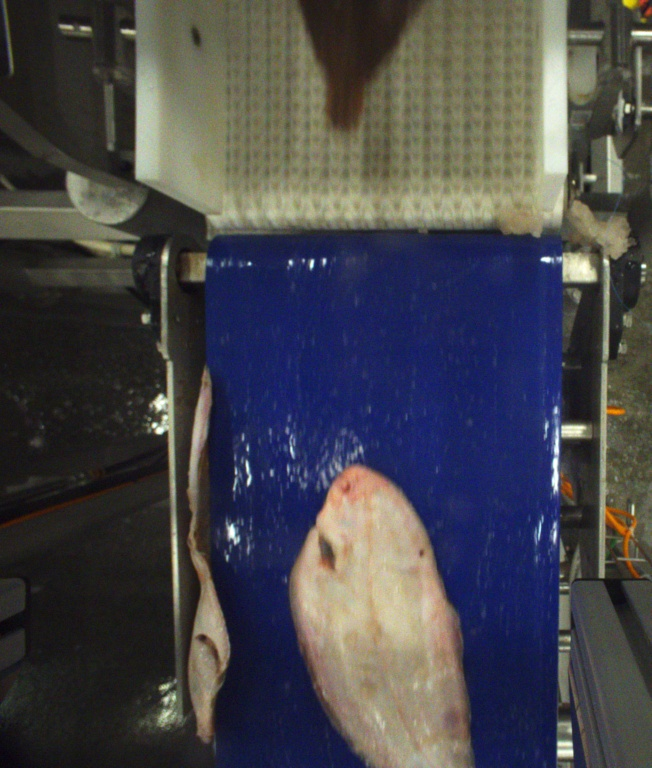SOL: (297, 0, 417, 124)
